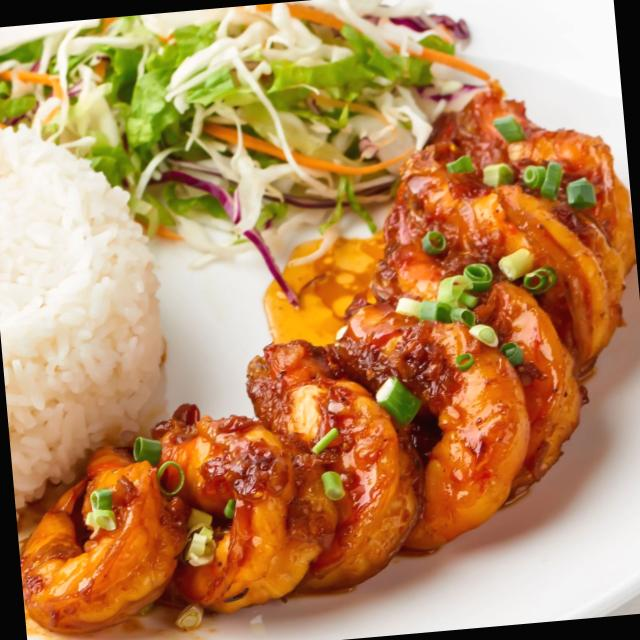com: (0, 126, 163, 512)
tom: (20, 92, 633, 633)
